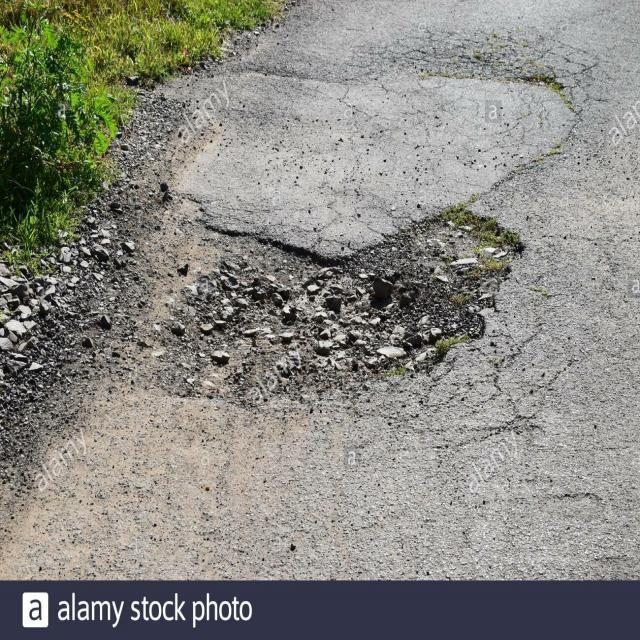Pothole: (126, 199, 524, 405)
